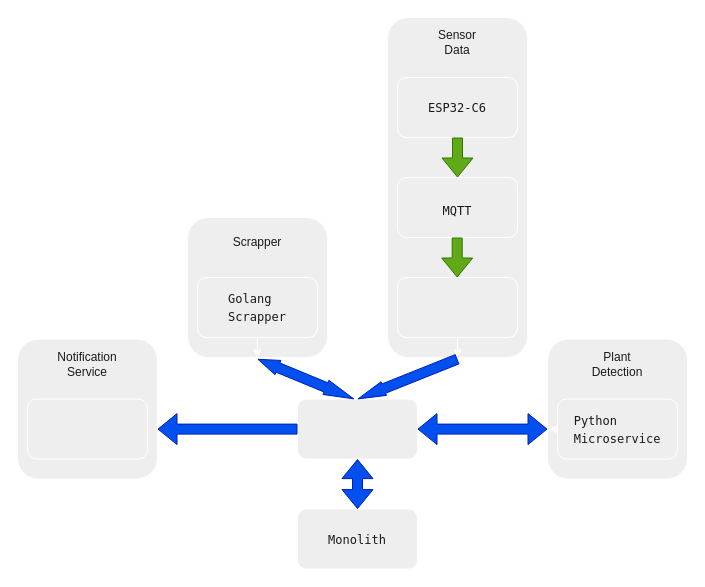
Some shapes in this 705 by 587 pixel diagram are drawn without their labels. Each missing label, with the centre of its shape:
"Golang Microservice" belongs at (87,428).
"Microservice (Golang)" belongs at (457,307).
"RabbitMQ" belongs at (357,428).
